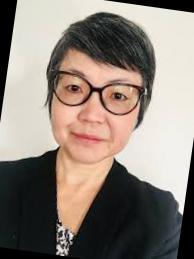Sober: (59, 54, 134, 160)
